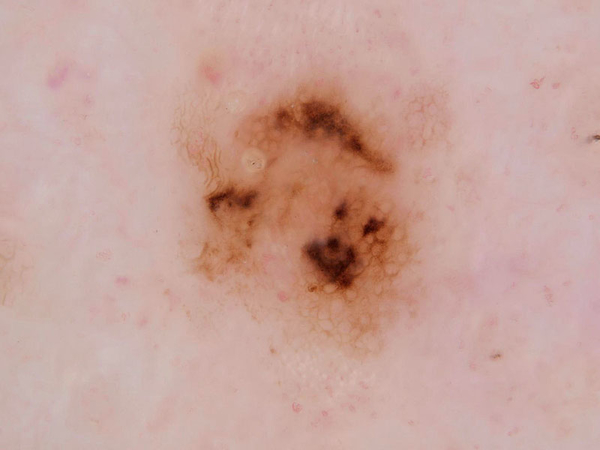Detected Lesion: (189, 96, 422, 342)
